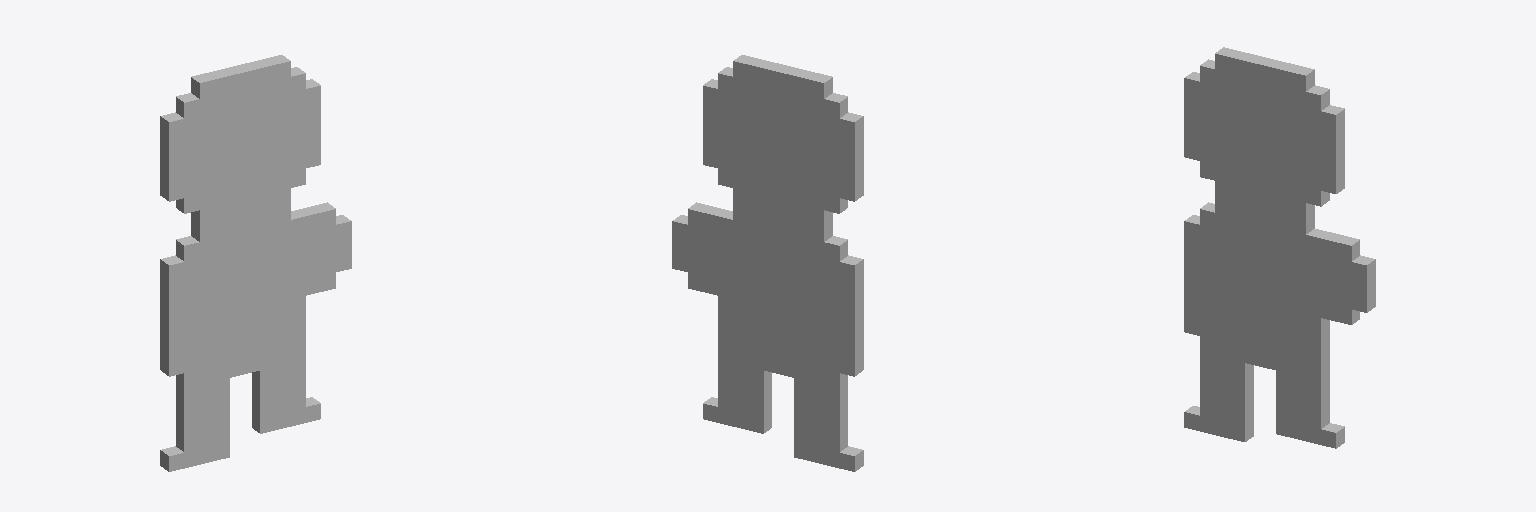
The model's file is дед бросок.obj.
3 views of the same model, side by side, from view 1: azimuth 30°, elevation 25°; view 2: azimuth 150°, elevation 25°; view 3: azimuth 330°, elevation 25° (orthographic).
Parts seen in each view (by area): view 1: object 1; view 2: object 1; view 3: object 1.
Part boxes in pixels (left/top/right/bottom): object 1: left=160, top=55, right=351, bottom=471; object 1: left=672, top=55, right=863, bottom=471; object 1: left=1184, top=47, right=1375, bottom=448.
Bounding box in the file's own units: 1.2 × 2.4 × 0.1.